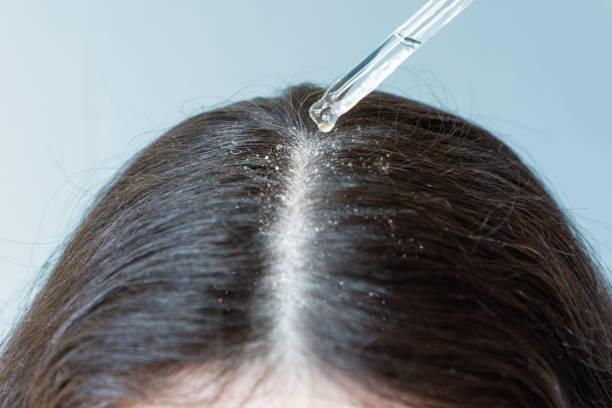dandruff: (372, 205, 435, 265), (339, 146, 408, 187), (197, 276, 239, 323), (357, 288, 399, 323), (239, 182, 278, 215), (244, 144, 279, 178)
